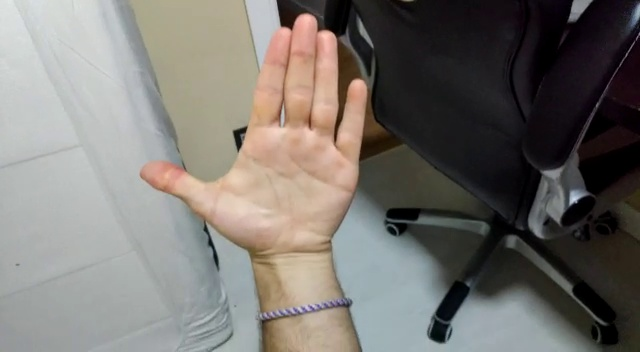Palm: (139, 11, 375, 284)
